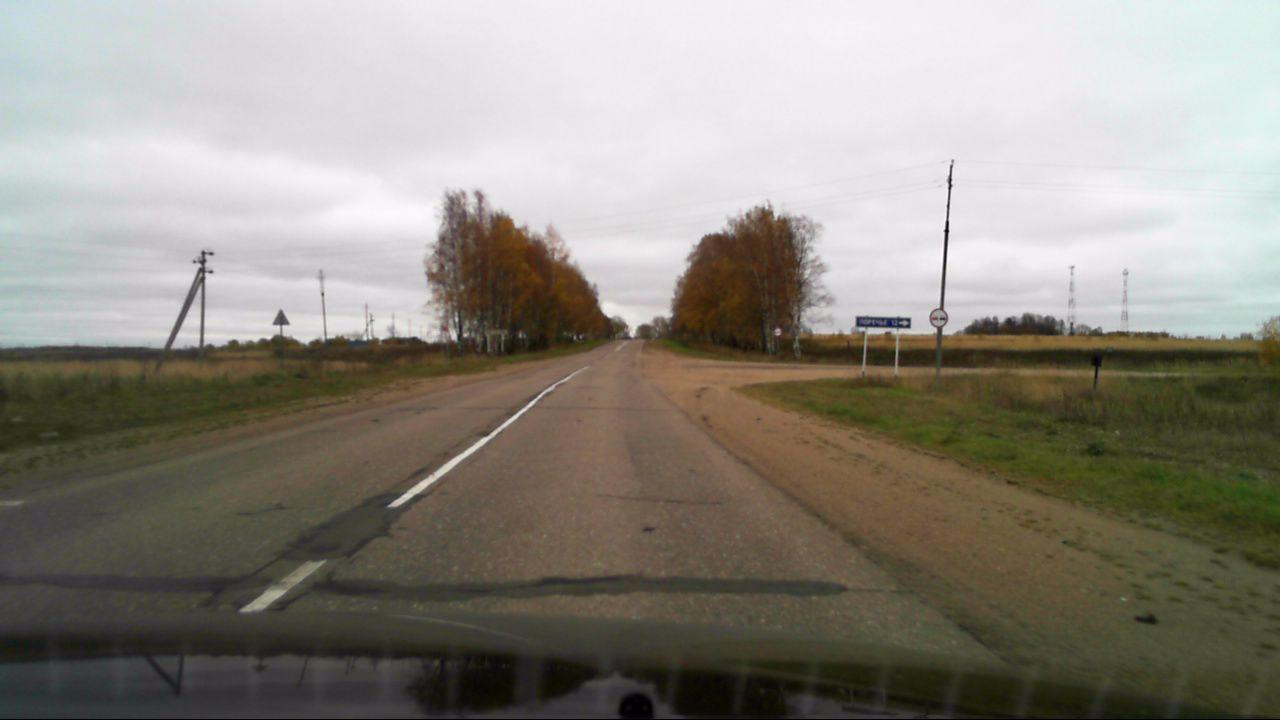road_sign: (928, 307, 948, 328)
